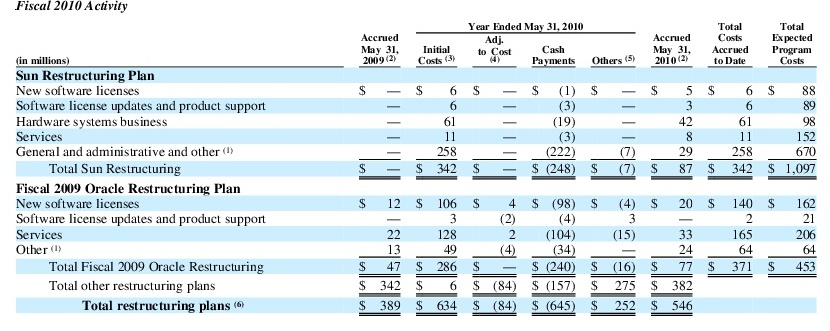table: (0, 0, 830, 331)
